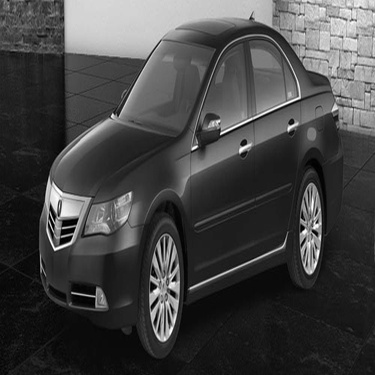car: (34, 9, 347, 363)
